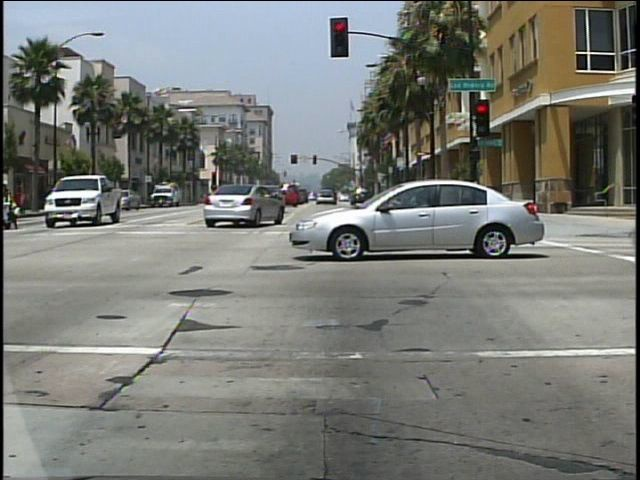person: (3, 178, 25, 232)
